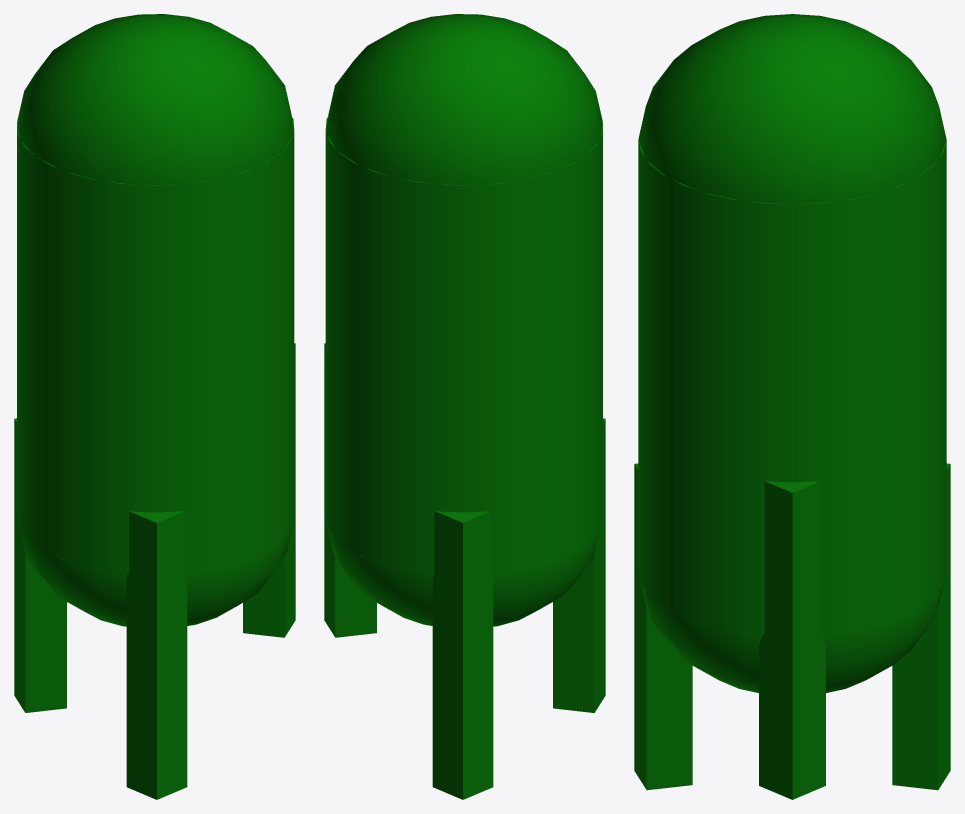
Rendered from Image-1710907553812-2281240356928_63-VX53.fbx.
3 renders of one model, left to right at view 1: azimuth 30°, elevation 25°; view 2: azimuth 150°, elevation 25°; view 3: azimuth 270°, elevation 25°, orthographic. The views are drawn at different scales.
Visible parts, largest first — view 1: CYLINDER 1 of EQUIPMENT /63-VX53, DISH 2 of EQUIPMENT /63-VX53, BOX 3 of EQUIPMENT /63-VX53, DISH 1 of EQUIPMENT /63-VX53, BOX 2 of EQUIPMENT /63-VX53, BOX 1 of EQUIPMENT /63-VX53; view 2: CYLINDER 1 of EQUIPMENT /63-VX53, DISH 2 of EQUIPMENT /63-VX53, BOX 2 of EQUIPMENT /63-VX53, DISH 1 of EQUIPMENT /63-VX53, BOX 3 of EQUIPMENT /63-VX53, BOX 1 of EQUIPMENT /63-VX53; view 3: CYLINDER 1 of EQUIPMENT /63-VX53, DISH 2 of EQUIPMENT /63-VX53, BOX 1 of EQUIPMENT /63-VX53, DISH 1 of EQUIPMENT /63-VX53, BOX 2 of EQUIPMENT /63-VX53, BOX 3 of EQUIPMENT /63-VX53.
Boxes of the visible parts, x1,y1,x2,y2 form: CYLINDER 1 of EQUIPMENT /63-VX53: (17, 117, 294, 573); DISH 2 of EQUIPMENT /63-VX53: (17, 14, 293, 185); BOX 3 of EQUIPMENT /63-VX53: (126, 511, 187, 799); DISH 1 of EQUIPMENT /63-VX53: (19, 521, 293, 626); BOX 2 of EQUIPMENT /63-VX53: (14, 418, 66, 712); BOX 1 of EQUIPMENT /63-VX53: (243, 343, 295, 637); CYLINDER 1 of EQUIPMENT /63-VX53: (325, 117, 602, 573); DISH 2 of EQUIPMENT /63-VX53: (326, 14, 602, 185); BOX 2 of EQUIPMENT /63-VX53: (432, 511, 493, 799); DISH 1 of EQUIPMENT /63-VX53: (326, 521, 600, 626); BOX 3 of EQUIPMENT /63-VX53: (553, 418, 605, 712); BOX 1 of EQUIPMENT /63-VX53: (324, 343, 376, 637); CYLINDER 1 of EQUIPMENT /63-VX53: (638, 140, 946, 634); DISH 2 of EQUIPMENT /63-VX53: (638, 14, 946, 204); BOX 1 of EQUIPMENT /63-VX53: (759, 481, 825, 799); DISH 1 of EQUIPMENT /63-VX53: (641, 583, 943, 692); BOX 2 of EQUIPMENT /63-VX53: (892, 463, 950, 790); BOX 3 of EQUIPMENT /63-VX53: (634, 463, 692, 790).
Size of the model in its own units: 0.3504 by 0.3322 by 0.901.
